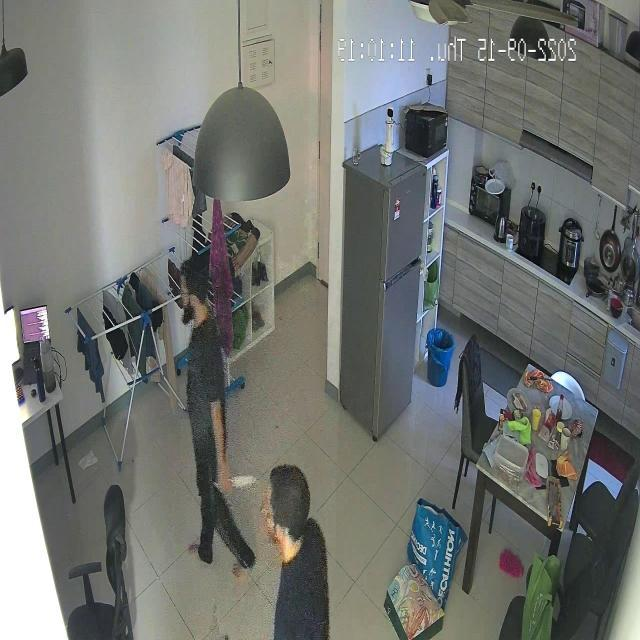Knife: (218, 469, 260, 496)
